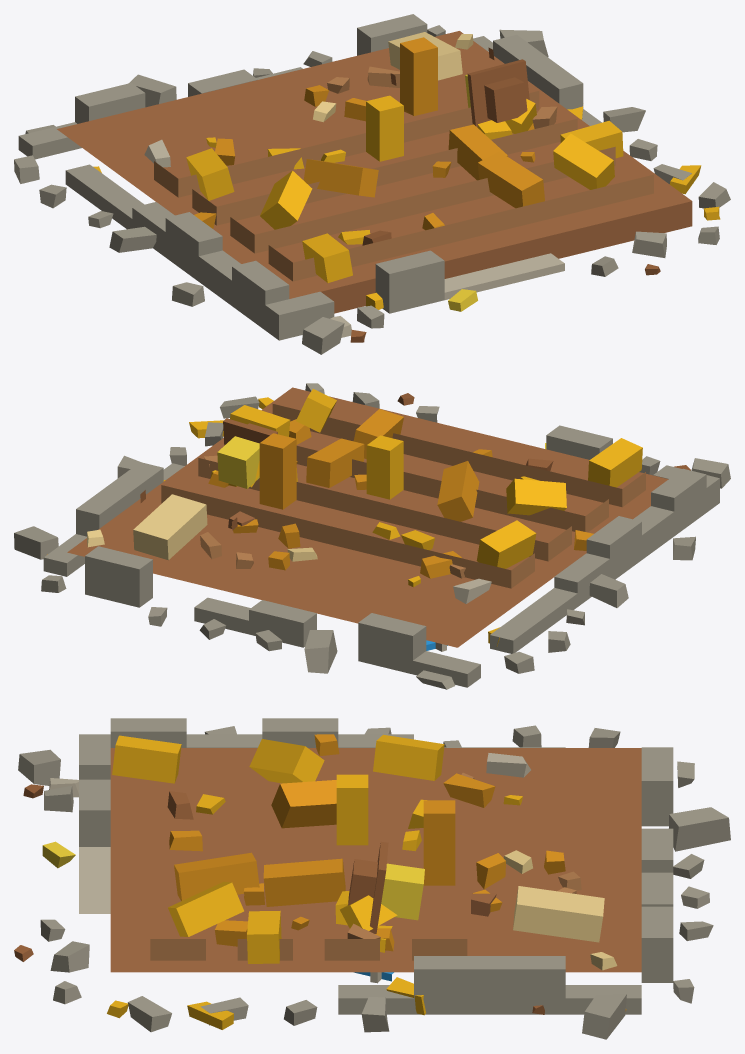
File: field_t3_v1_dmg2.glb
3 views of the same model, one above another, from view 1: azimuth 30°, elevation 25°; view 2: azimuth 150°, elevation 25°; view 3: azimuth 270°, elevation 25° (orthographic). The views are drawn at different scales.
Parts seen in each view (by area): view 1: field_t3_v1_dmg2; view 2: field_t3_v1_dmg2; view 3: field_t3_v1_dmg2.
Part boxes in pixels (bbox=[...]): field_t3_v1_dmg2: bbox=[14, 14, 730, 354]; field_t3_v1_dmg2: bbox=[14, 383, 730, 689]; field_t3_v1_dmg2: bbox=[14, 718, 730, 1039].
Size of the model in its own units: 0.8918 by 0.17 by 0.9051.
1 material, 1 textured.
